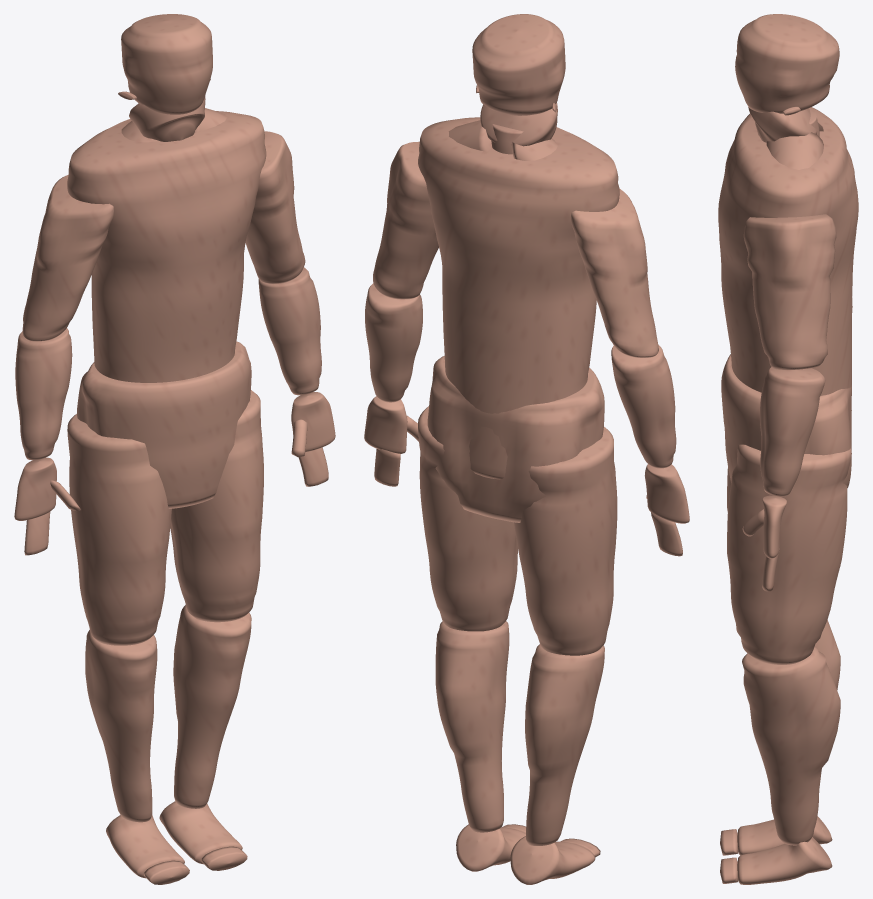
The model's file is body-male.glb.
The picture shows the model from 3 angles, left to right: view 1: azimuth 30°, elevation 25°; view 2: azimuth 150°, elevation 25°; view 3: azimuth 270°, elevation 25°; orthographic projection.
Visible parts, largest first — view 1: Body; view 2: Body; view 3: Body.
Boxes of the visible parts, left/top/right/bottom form: Body: left=14, top=14, right=335, bottom=884; Body: left=364, top=14, right=689, bottom=884; Body: left=718, top=14, right=858, bottom=884.
Bounding box in the file's own units: 0.6893 × 1.72 × 0.2592.
1 material, 1 textured.
